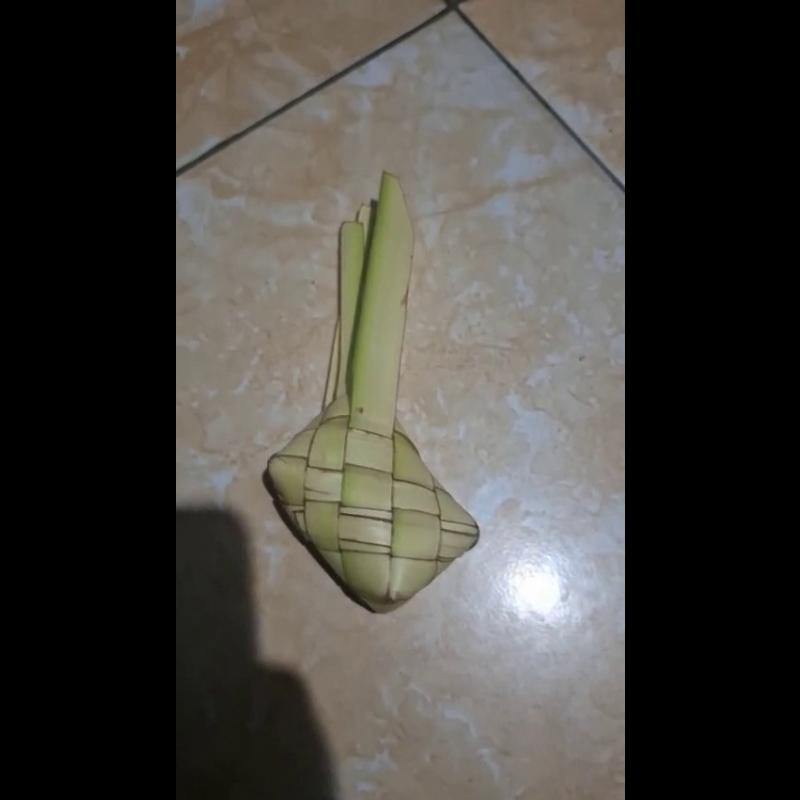Tipat Bantal: (257, 172, 485, 622)
